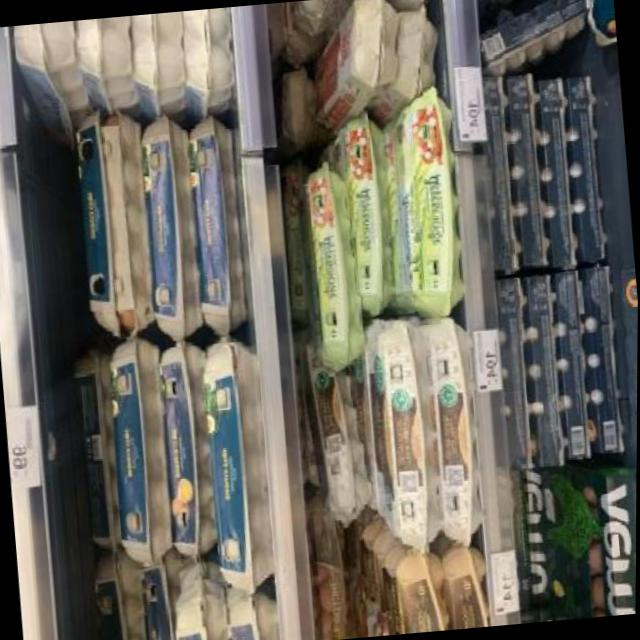Egg: (197, 334, 277, 593), (359, 316, 442, 549), (69, 110, 155, 334), (104, 336, 175, 570), (153, 336, 225, 564), (133, 114, 205, 338), (418, 318, 487, 549), (181, 115, 250, 338), (301, 340, 372, 522), (305, 502, 355, 640), (171, 574, 229, 640), (220, 591, 277, 640)
